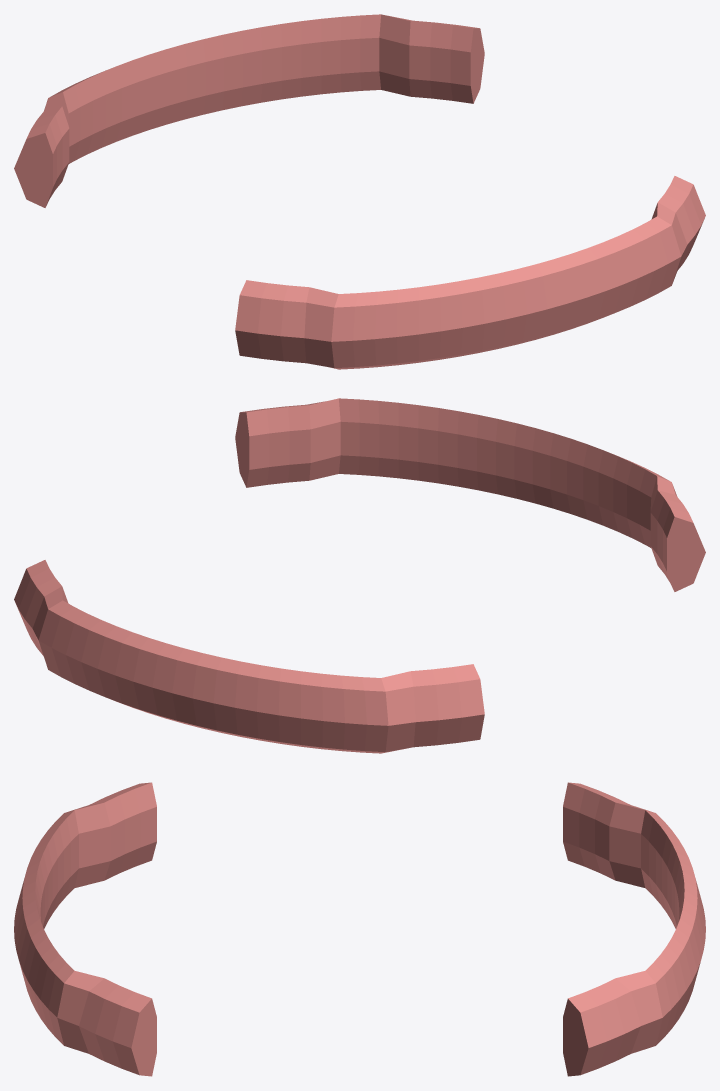
The model's file is level22.glb.
3 renders of one model, top to bottom at view 1: azimuth 30°, elevation 25°; view 2: azimuth 150°, elevation 25°; view 3: azimuth 270°, elevation 25°, orthographic. The views are drawn at different scales.
Parts seen in each view (by area): view 1: 环体.001; view 2: 环体.001; view 3: 环体.001.
Part boxes in pixels (x1=…): 环体.001: x1=14, y1=14, x2=705, y2=369; 环体.001: x1=14, y1=398, x2=705, y2=753; 环体.001: x1=14, y1=782, x2=705, y2=1076.
Size of the model in its own units: 10.76 by 1.65 by 13.25.
